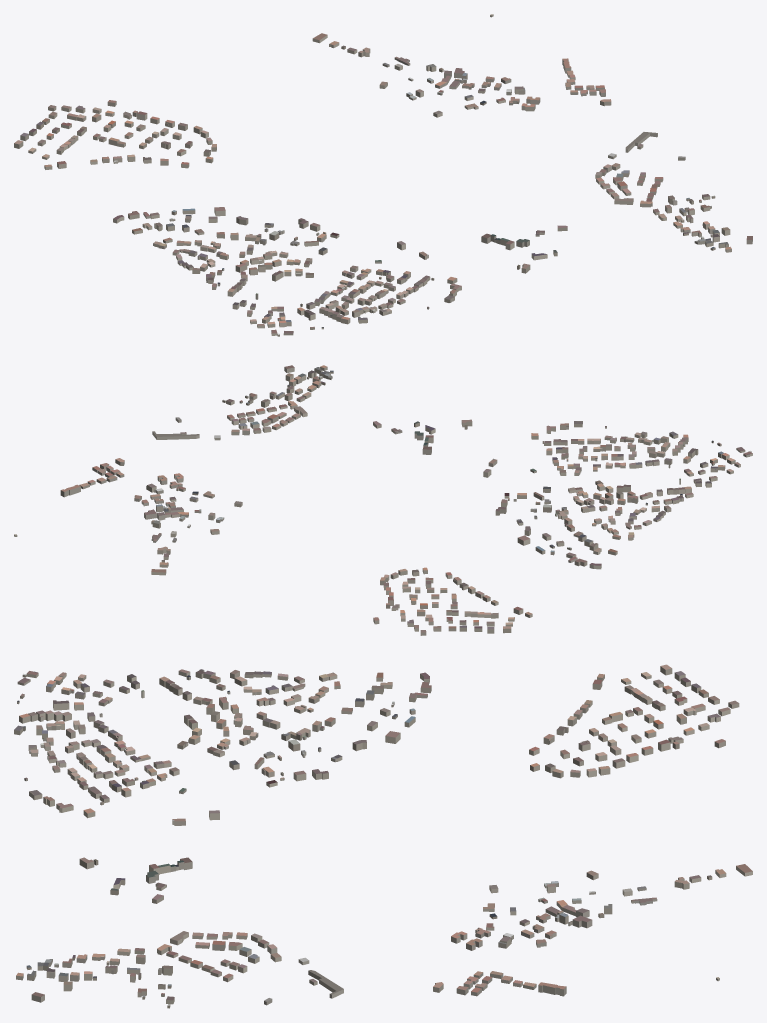
3 renders of one model, top to bottom at view 1: azimuth 30°, elevation 25°; view 2: azimuth 150°, elevation 25°; view 3: azimuth 270°, elevation 25°, orthographic. The views are drawn at different scales.
Visible parts, largest first — view 1: tuile; view 2: tuile; view 3: tuile.
Boxes of the visible parts, left/top/right/bottom form: tuile: left=14, top=14, right=752, bottom=336; tuile: left=14, top=365, right=752, bottom=635; tuile: left=14, top=664, right=752, bottom=1008.
Size of the model in its own units: 1011 by 64.94 by 1008.
